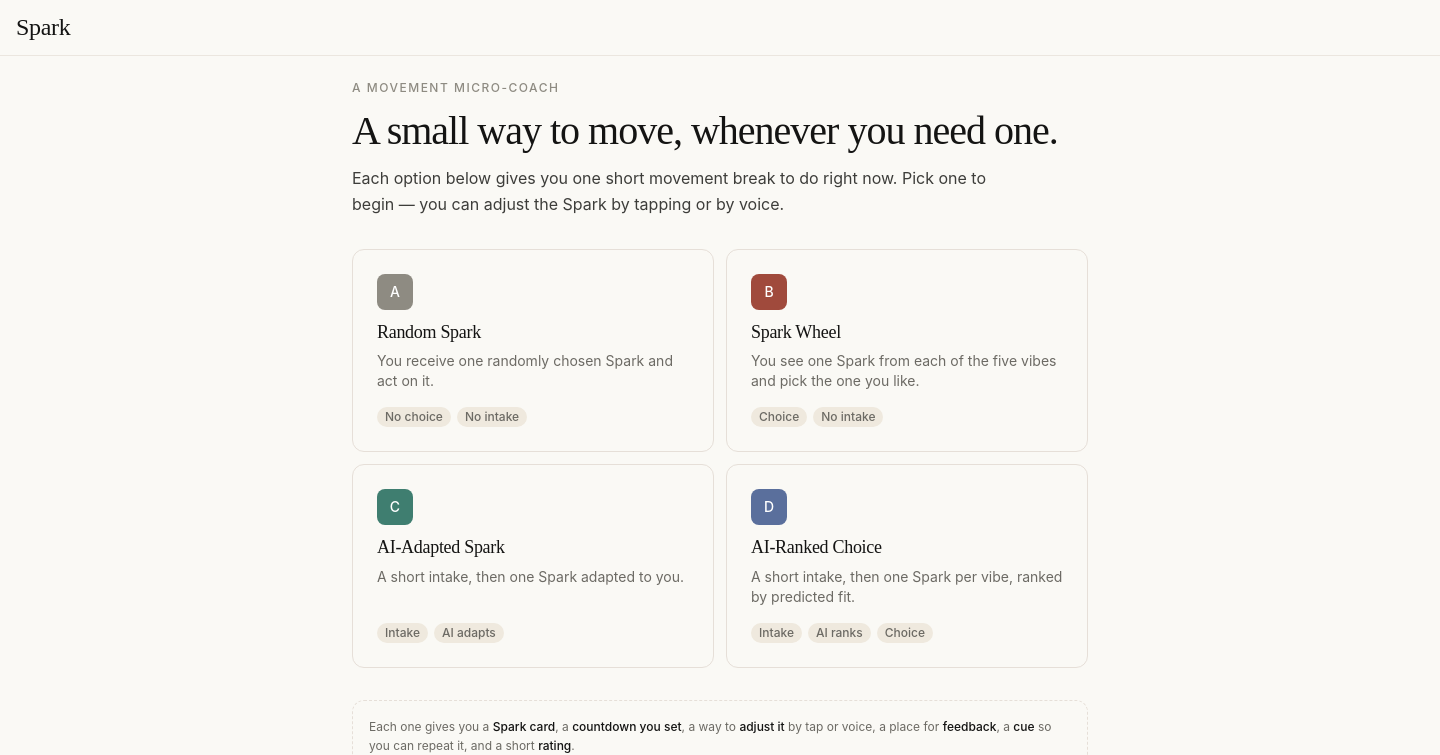
Spark page › leaves a condition through the home control
Click the button with test id "spark-cond-B" at (907, 351), box [726, 249, 1088, 452]
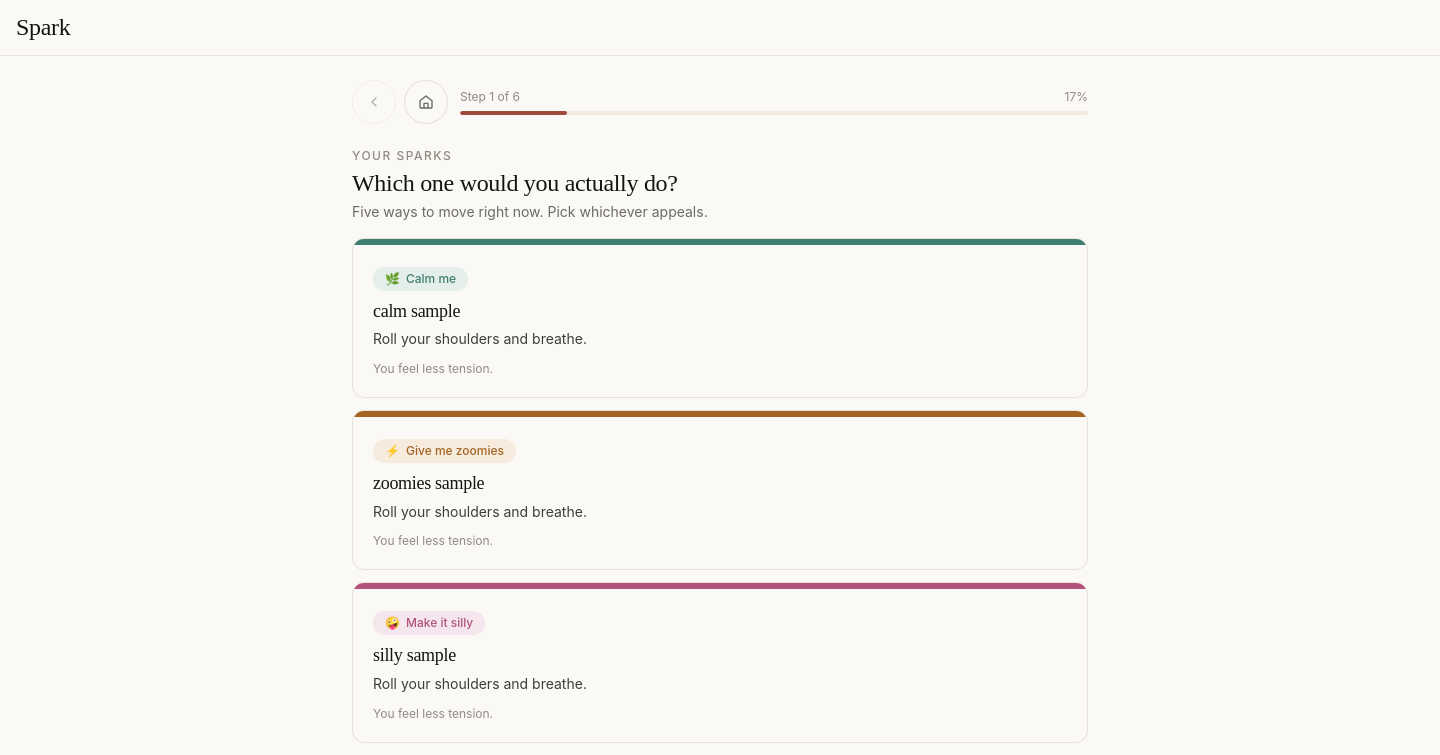
Result: the heading "Which one would you actually do?" is shown at [352, 169, 708, 198]
Leaving is its own control, always available and always deliberate.
Click the button named "Back to the start" at (426, 102), box [404, 80, 448, 124]
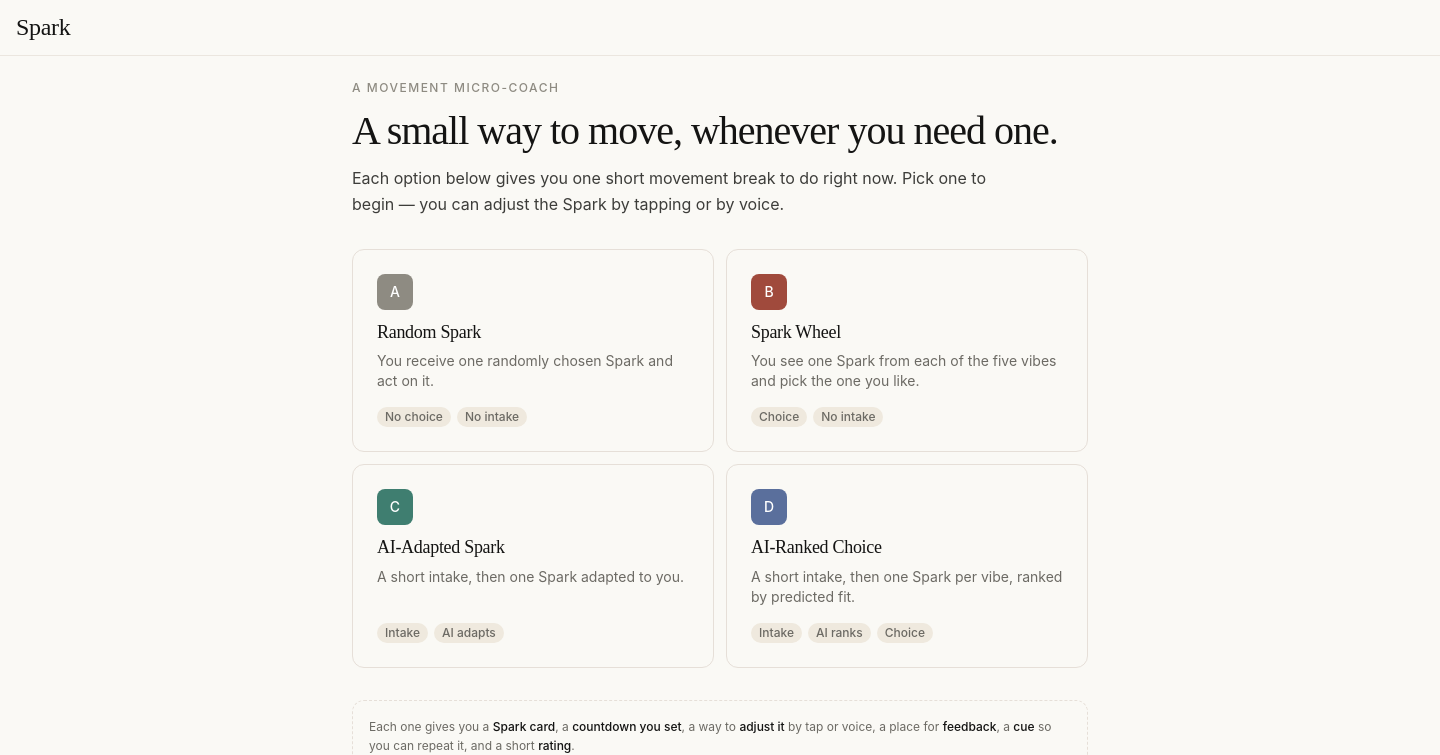
Result: the button with test id "spark-cond-A" is shown at [352, 249, 714, 452]
